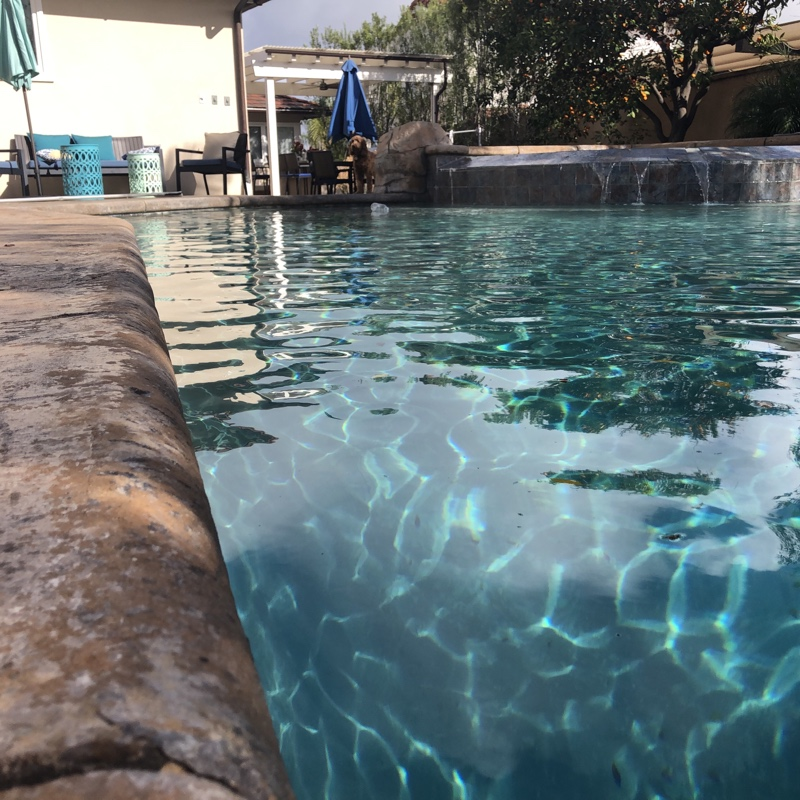Plastic Bottle: (369, 197, 390, 223)
